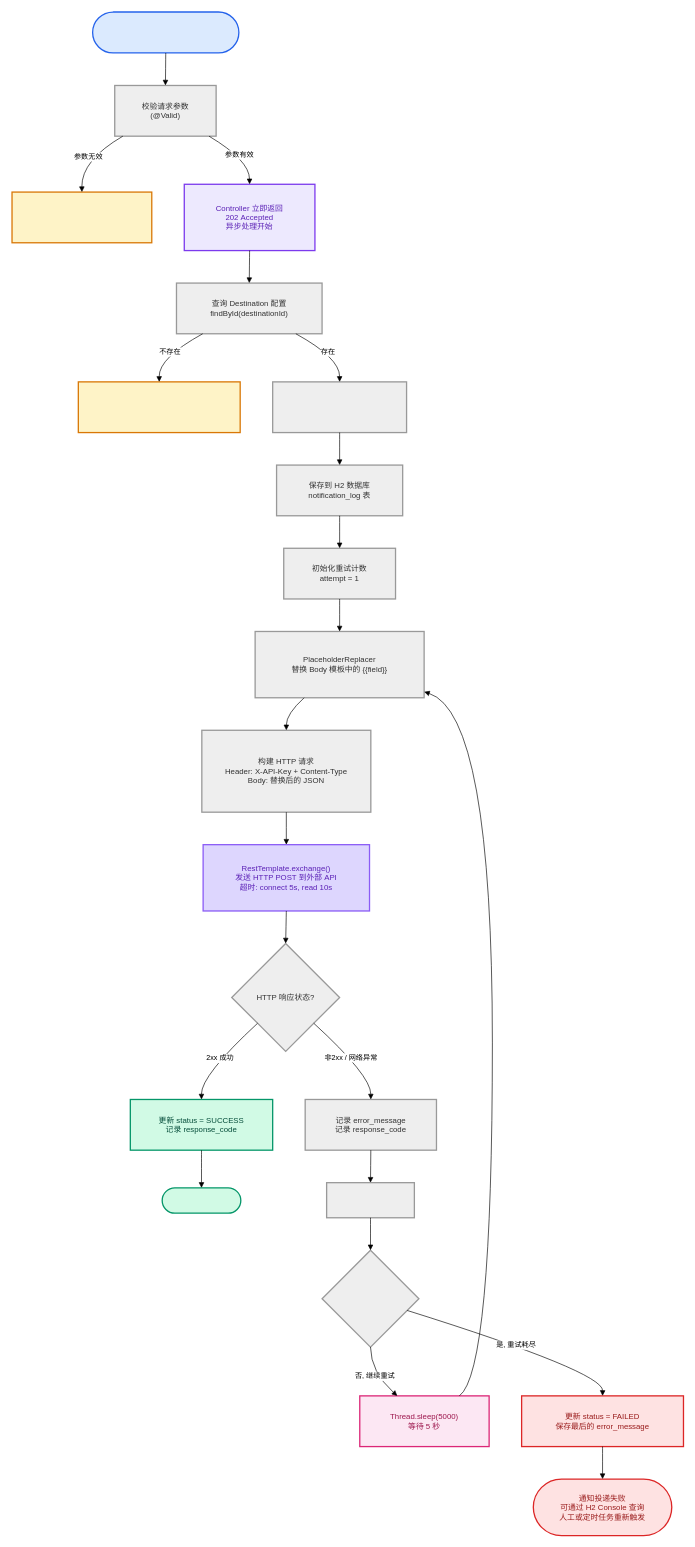
Some shapes in this 695 by 1547 pixel diagram are drawn without their labels. Each missing label, with the centre of its shape:
"attempt > 3 ?" goes at pixel 370 1298.
"attempt++" goes at pixel 370 1200.
"业务系统调用 POST /api/v1/notifications" goes at pixel 165 32.
"创建 NotificationLog status = PENDING" goes at pixel 339 407.
"抛出 RuntimeException DESTINATION_NOT_FOUND" goes at pixel 158 407.
"返回 400 Bad Request VALIDATION_ERROR" goes at pixel 81 217.
"通知投递成功" goes at pixel 201 1200.
